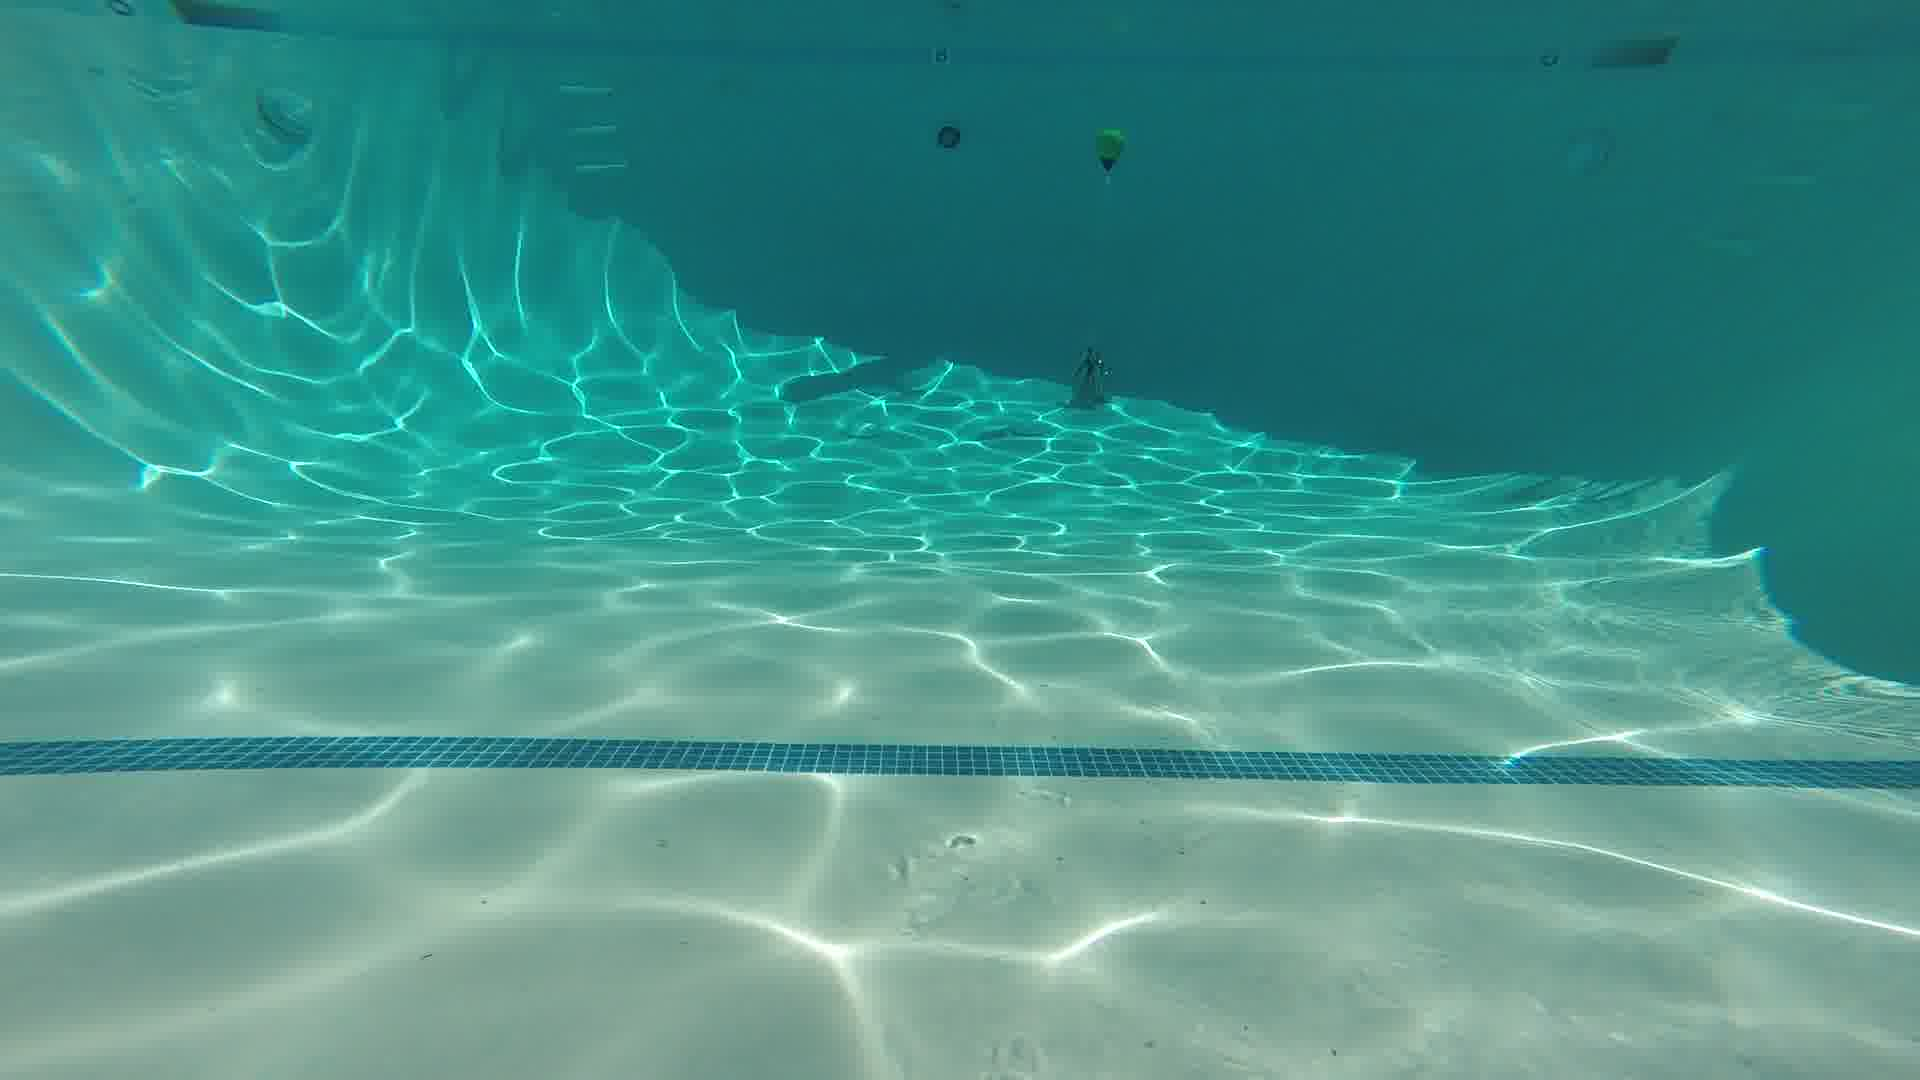yellow buoy: (1095, 125, 1130, 178)
